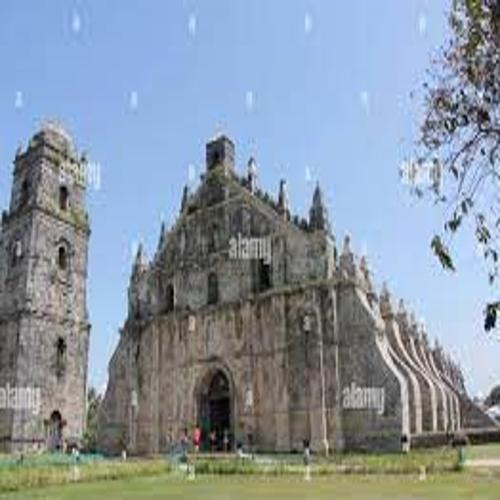Paoay Church: (3, 103, 473, 464)
